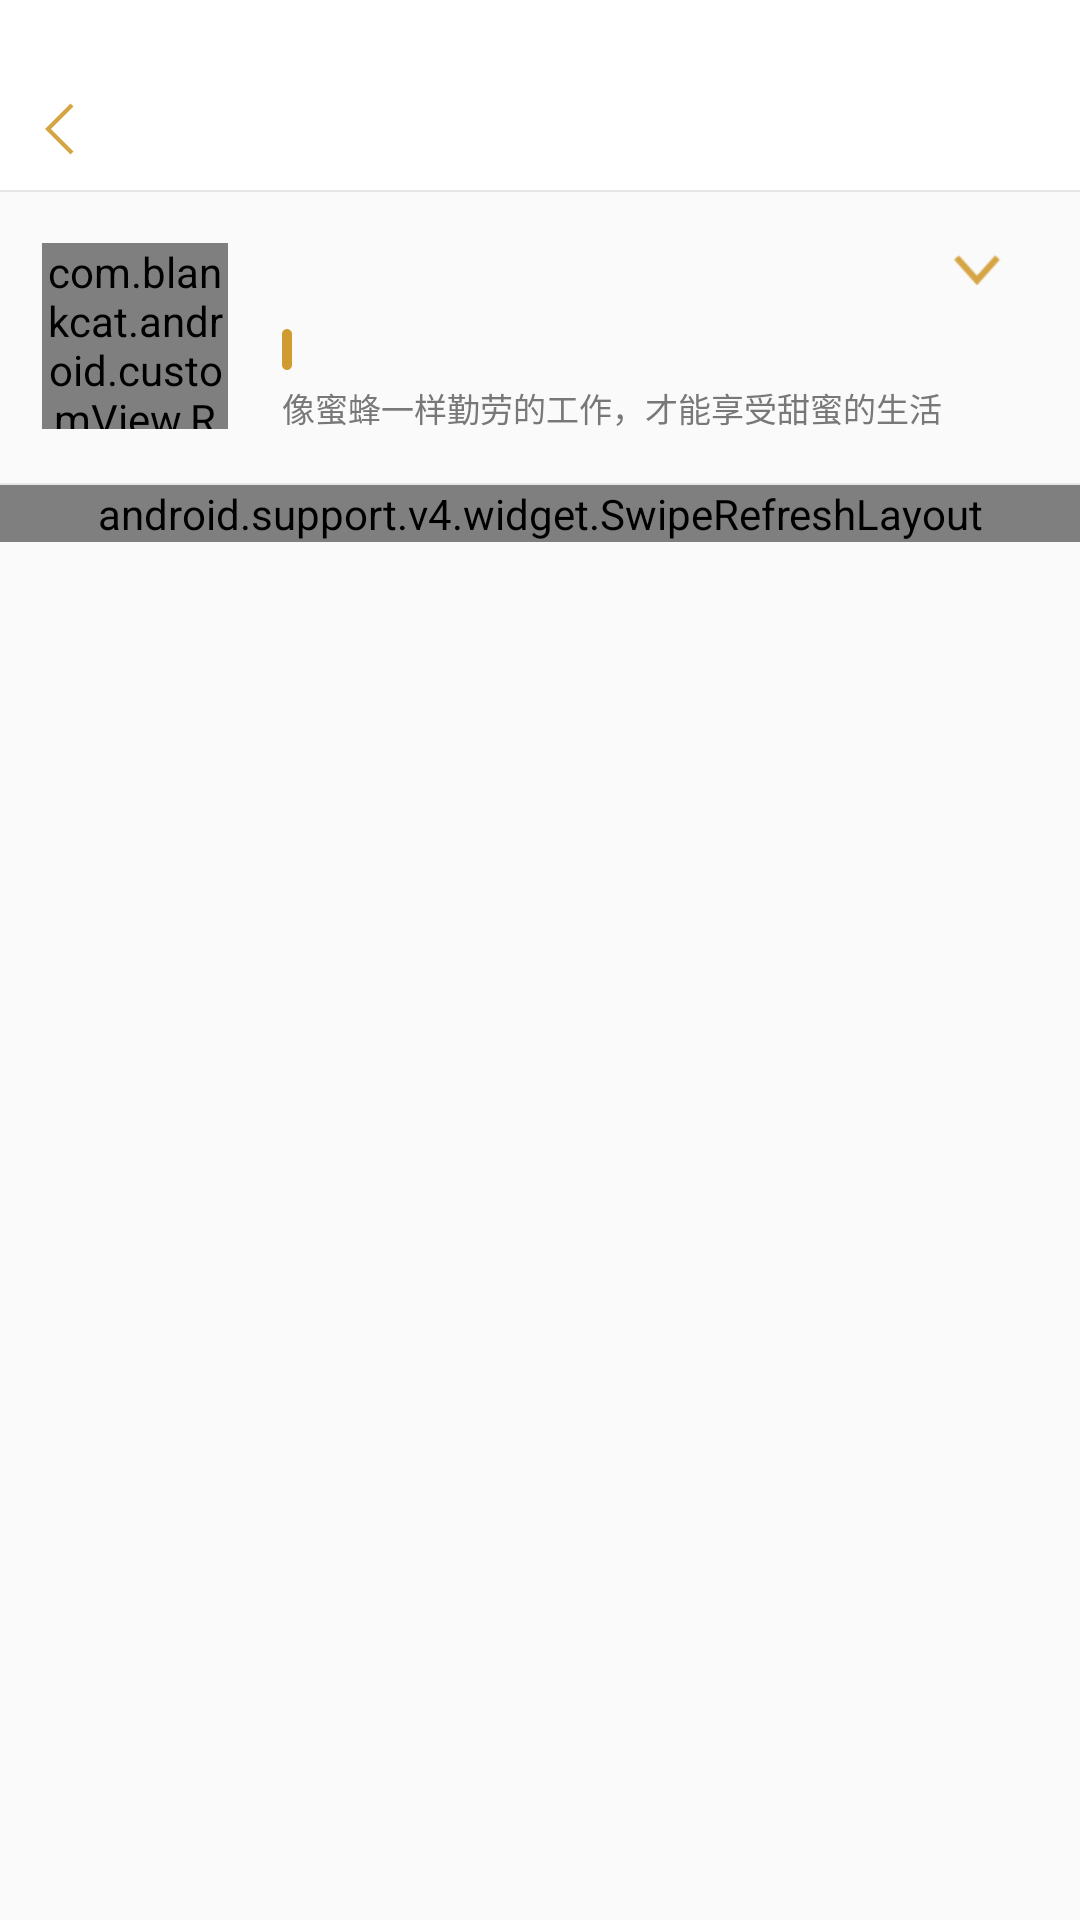

Screen size 1080px x 1920px. Icon name, then its center in pixels as point (x, y):
back: point (59, 129)
